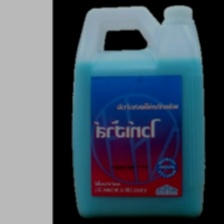cleaning_solution: (69, 2, 208, 220)
